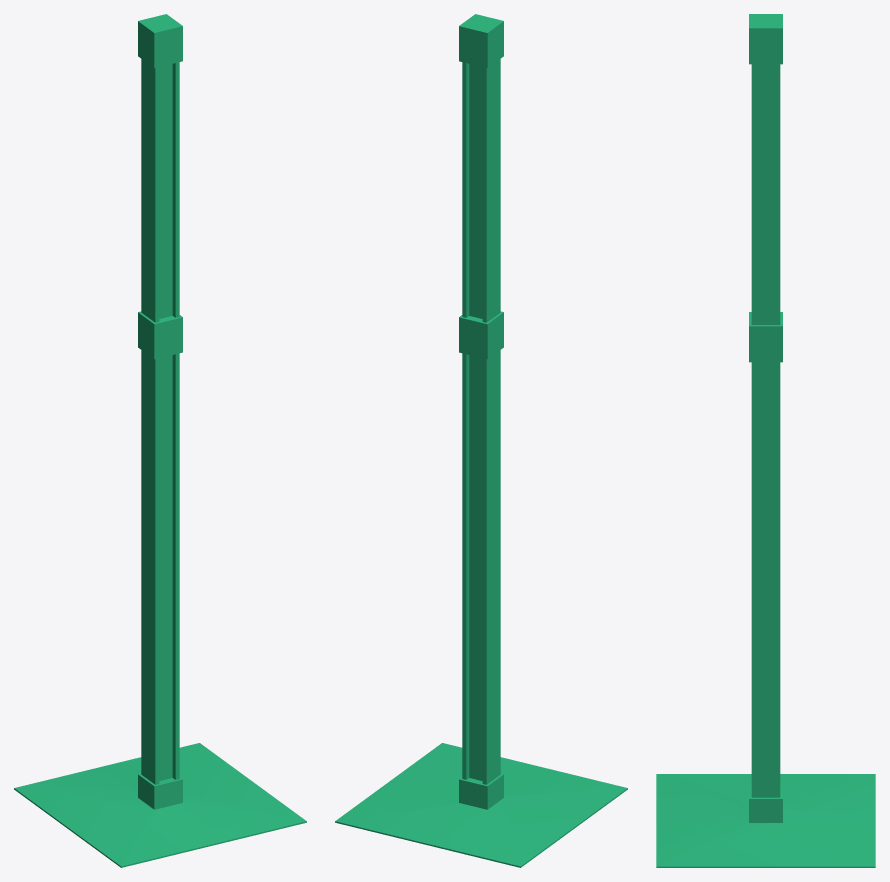
File: SM_signstand_01.glb
3 renders of one model, left to right at view 1: azimuth 30°, elevation 25°; view 2: azimuth 150°, elevation 25°; view 3: azimuth 270°, elevation 25°, orthographic. The views are drawn at different scales.
Visible parts, largest first — view 1: SM_signstand_01; view 2: SM_signstand_01; view 3: SM_signstand_01.
Part boxes in pixels (box(x1,y1,x2,y2)): SM_signstand_01: box(14, 14, 306, 867); SM_signstand_01: box(335, 14, 627, 867); SM_signstand_01: box(656, 14, 875, 867).
Size of the model in its own units: 0.868 by 3.5 by 0.8681.
